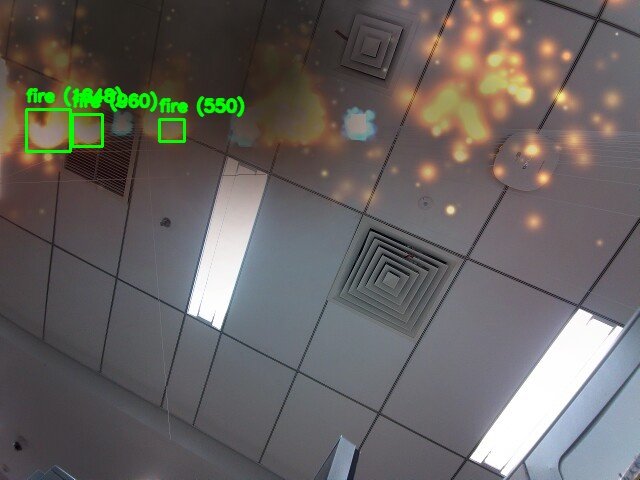fire: (26, 109, 70, 151), (72, 114, 102, 146), (159, 119, 184, 141)
